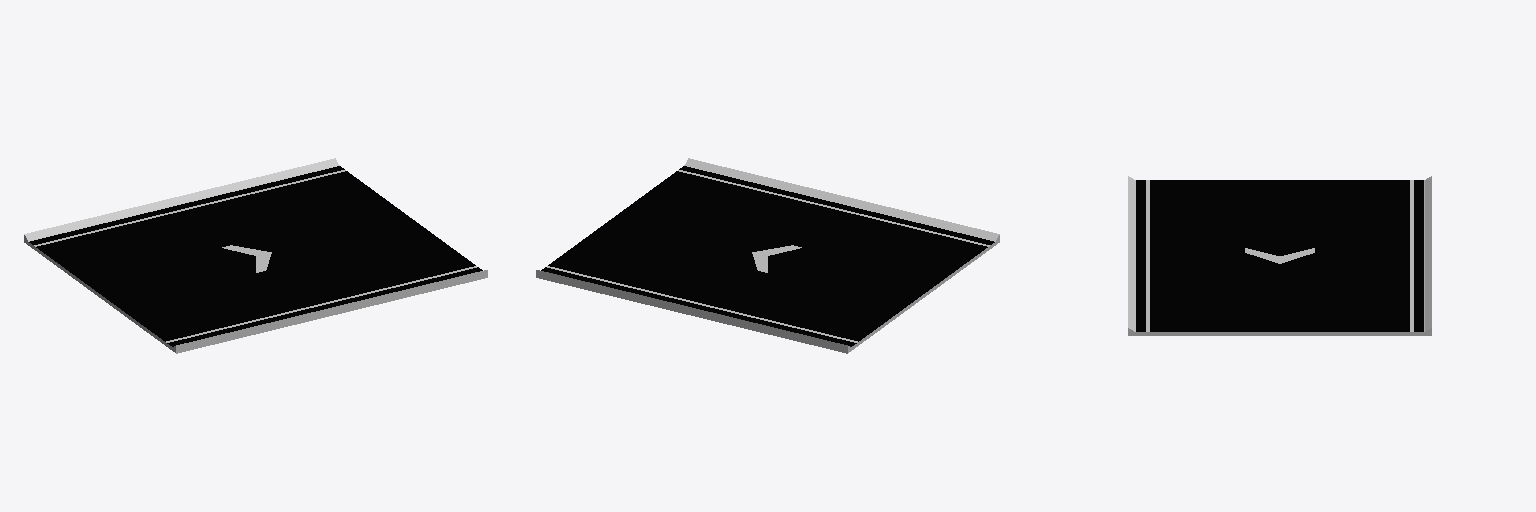
Rendered from road 1.obj.
3 renders of one model, left to right at view 1: azimuth 30°, elevation 25°; view 2: azimuth 150°, elevation 25°; view 3: azimuth 270°, elevation 25°, orthographic.
Parts seen in each view (by area): view 1: Cube; view 2: Cube; view 3: Cube.
Part boxes in pixels (x1,y1,x2,y2): Cube: (24,158,487,353); Cube: (536,158,999,353); Cube: (1128,176,1431,335).
Bounding box in the file's own units: 1.46 × 0.0375 × 1.24.